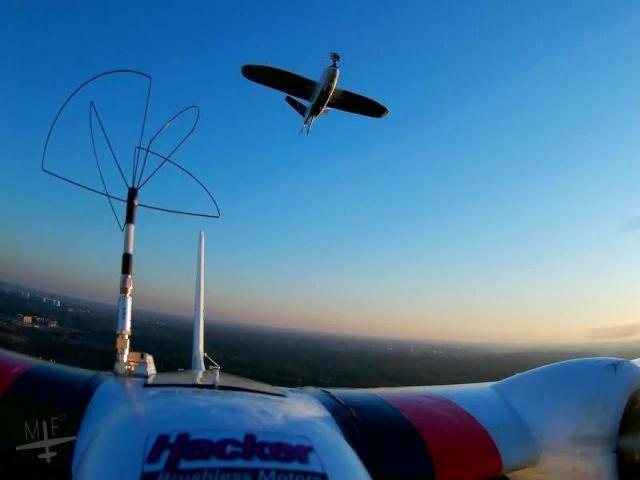hedef: (238, 45, 390, 138)
